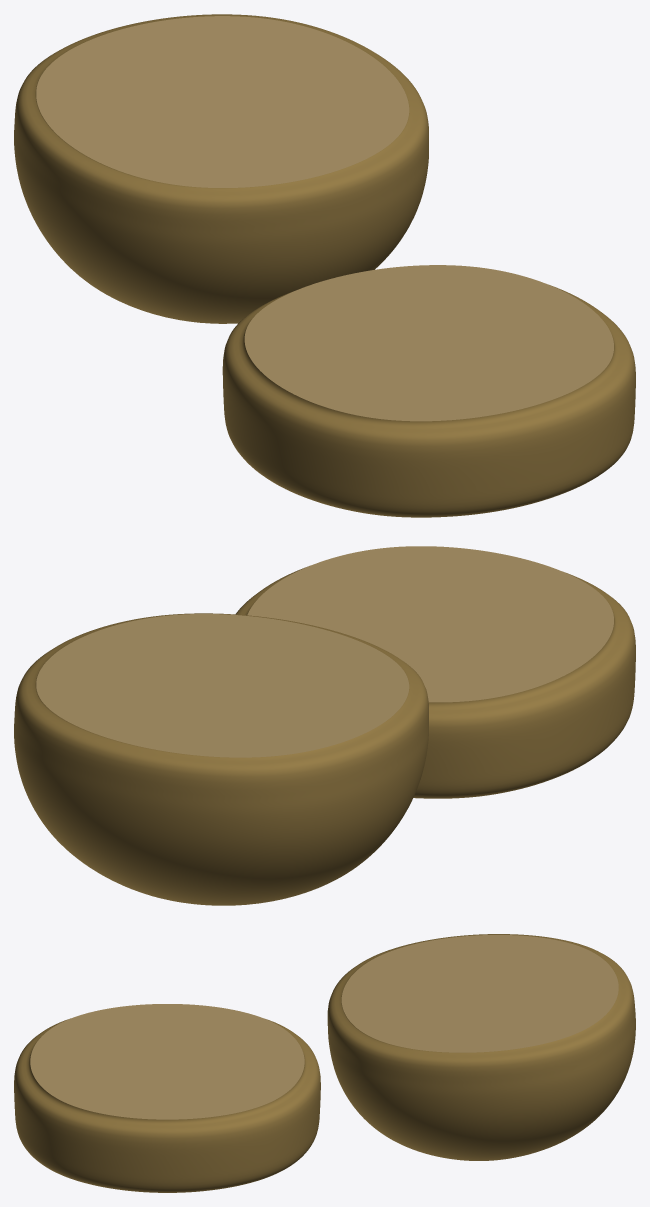
The model's file is Burger Bun Halved.fbx.
The picture shows the model from 3 angles, top to bottom: view 1: azimuth 30°, elevation 25°; view 2: azimuth 150°, elevation 25°; view 3: azimuth 270°, elevation 25°; orthographic projection. The views are drawn at different scales.
Parts seen in each view (by area): view 1: Burger_Bun_Halved; view 2: Burger_Bun_Halved; view 3: Burger_Bun_Halved.
Part boxes in pixels (x1=…): Burger_Bun_Halved: x1=14, y1=14, x2=635, y2=517; Burger_Bun_Halved: x1=14, y1=546, x2=635, y2=905; Burger_Bun_Halved: x1=14, y1=934, x2=635, y2=1192.
Bounding box in the file's own units: 19.09 × 10.5 × 38.56.
